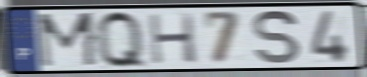4: (309, 9, 351, 65)
7: (201, 9, 246, 66)
H: (146, 12, 200, 66)
M: (35, 10, 101, 70)
Q: (93, 8, 150, 71)
S: (251, 9, 303, 67)
